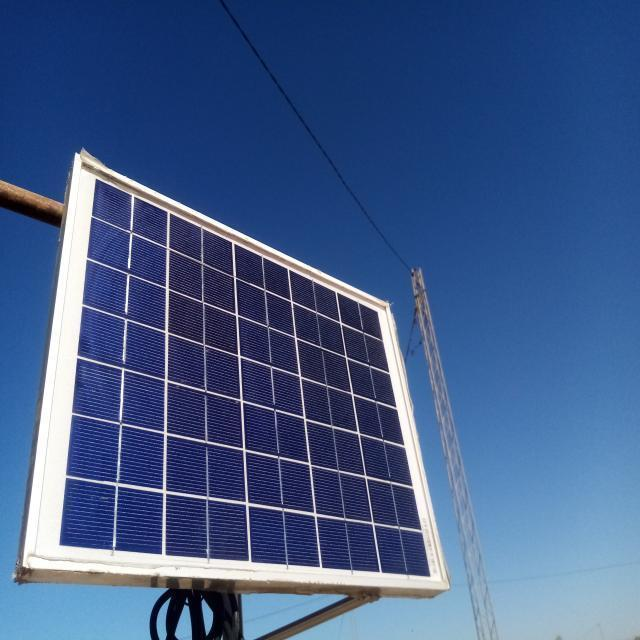Normal Solar Panel: (18, 152, 448, 585)
